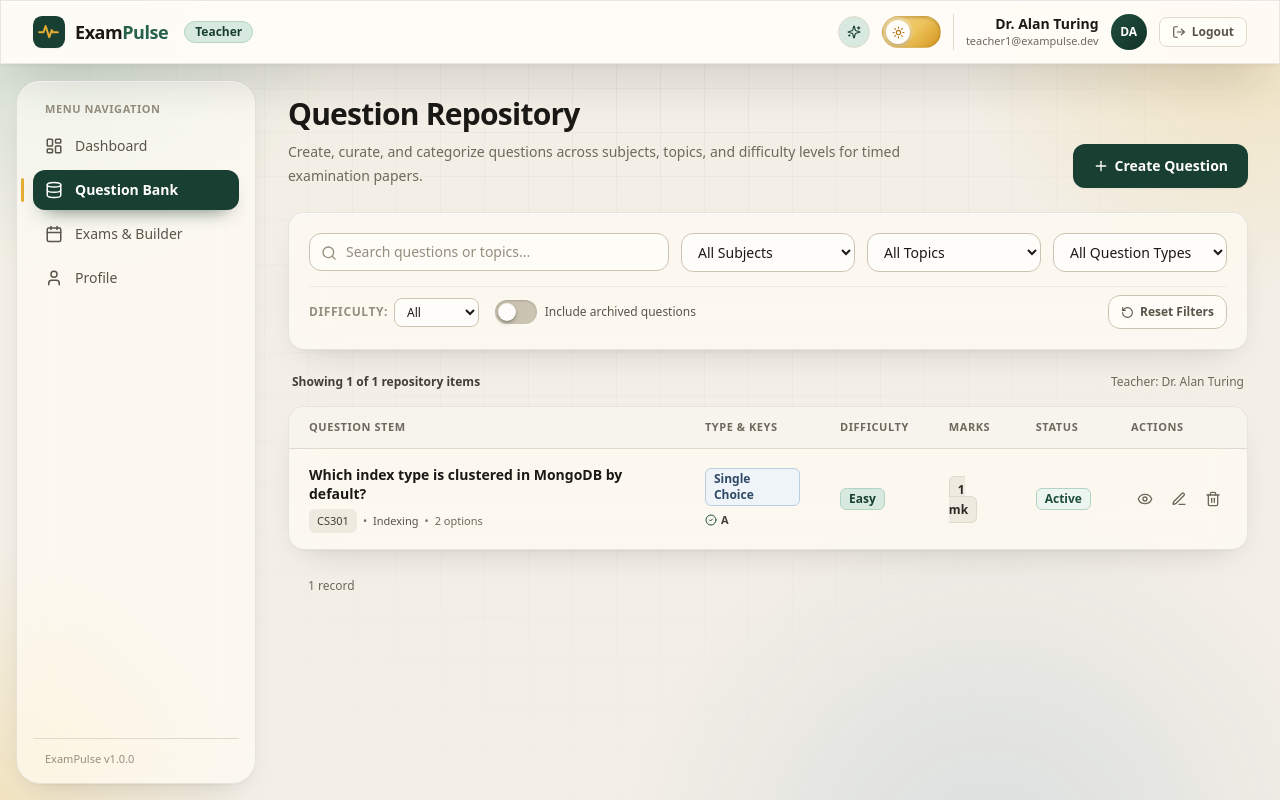
renders the question bank and opens the create question dialog
Click "+ Create Question"
Click the button "Create Question". click: {"x": 1160, "y": 166}
box: [1072,144,1248,188]
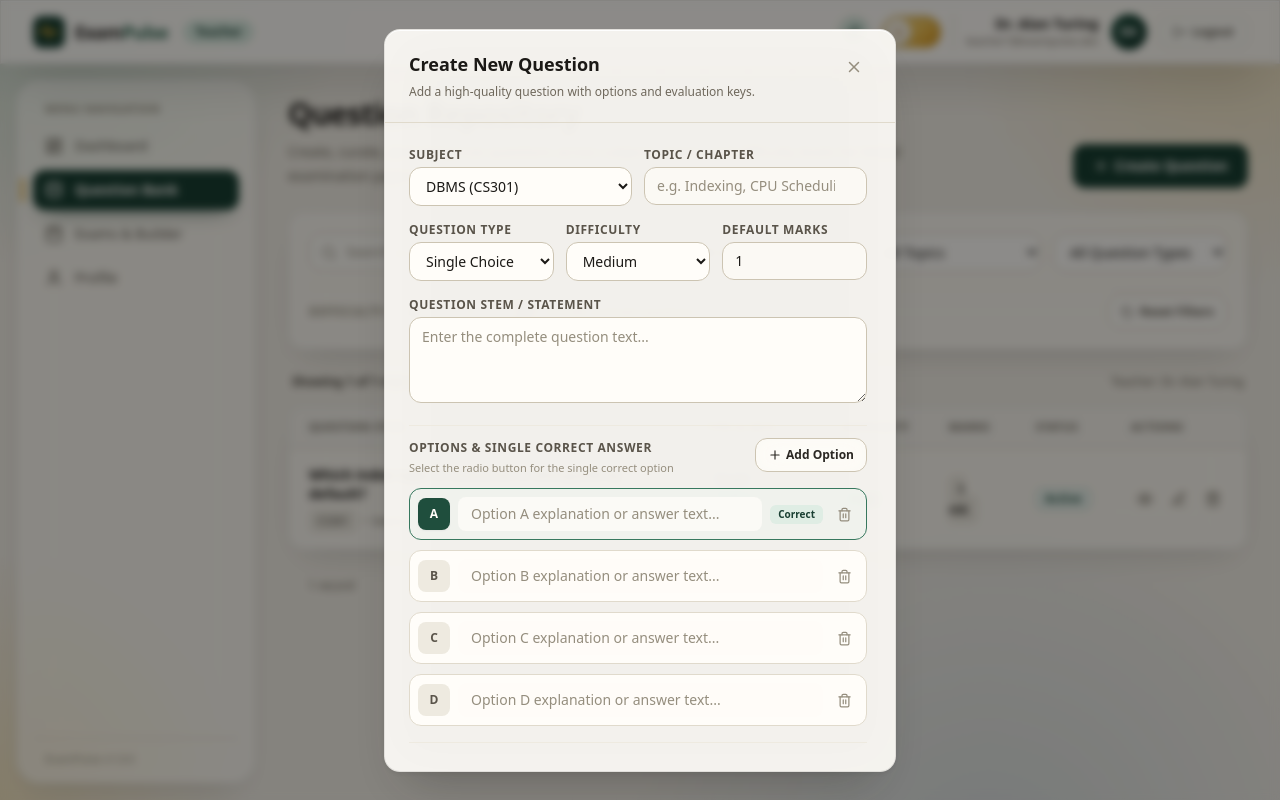
Result: the dialog "Create New Question" is shown at [384,28,896,772]
Result: the text box with placeholder "Enter the complete question text..." is shown at [409,316,867,403]
Change question type to True / False
Select "True / False" in the dropdown labelled "Question Type". click: {"x": 481, "y": 261}
box: [409,242,554,280]
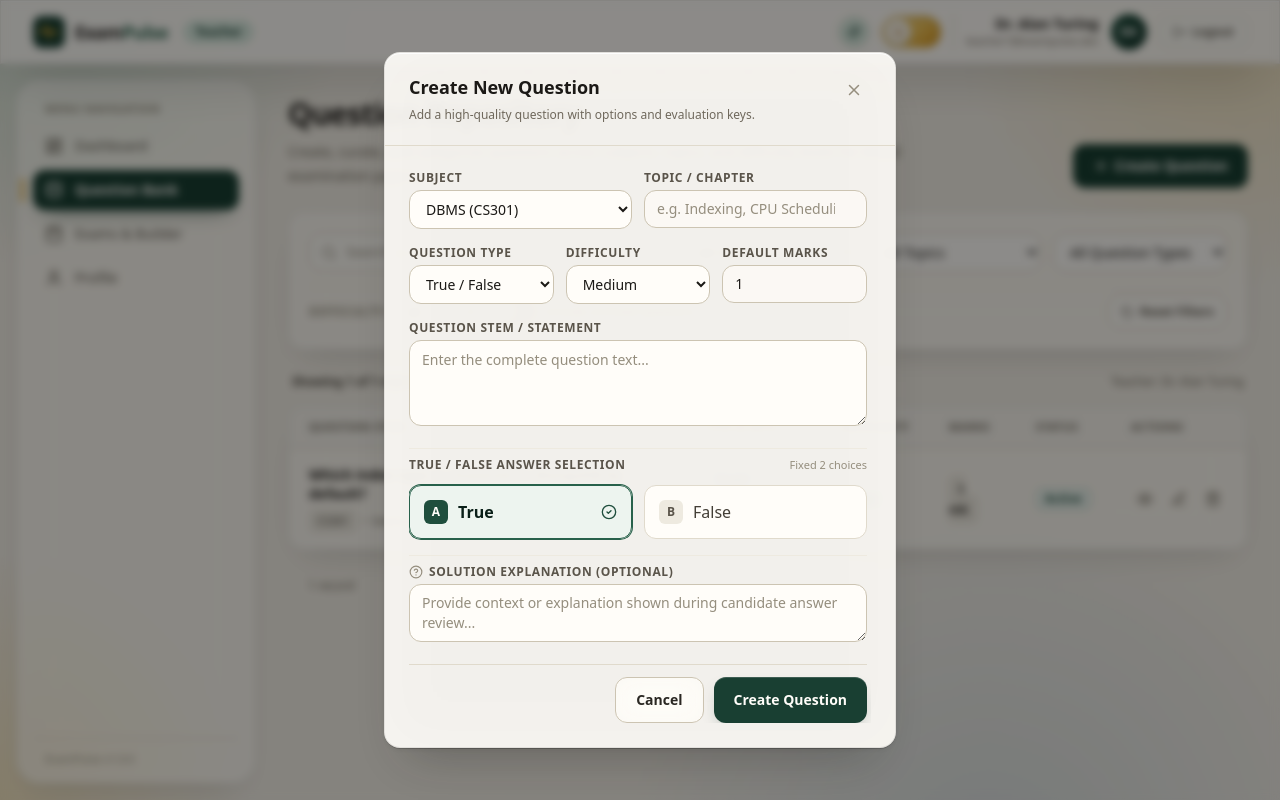
Result: the text "True / False Answer Selection" is shown at [409,457,626,473]
